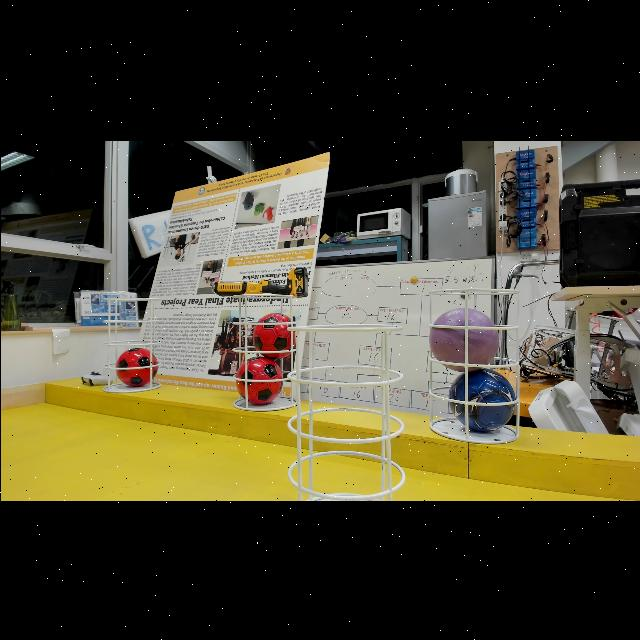B: (444, 364, 518, 434)
P: (426, 304, 502, 376)
R: (233, 354, 283, 406), (248, 310, 298, 358), (110, 342, 160, 390)
S: (282, 320, 406, 500), (425, 283, 521, 445), (228, 287, 298, 413), (100, 292, 164, 396)
